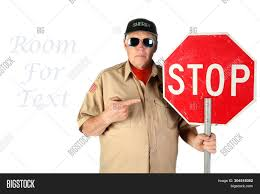stop sign: (163, 34, 255, 125)
